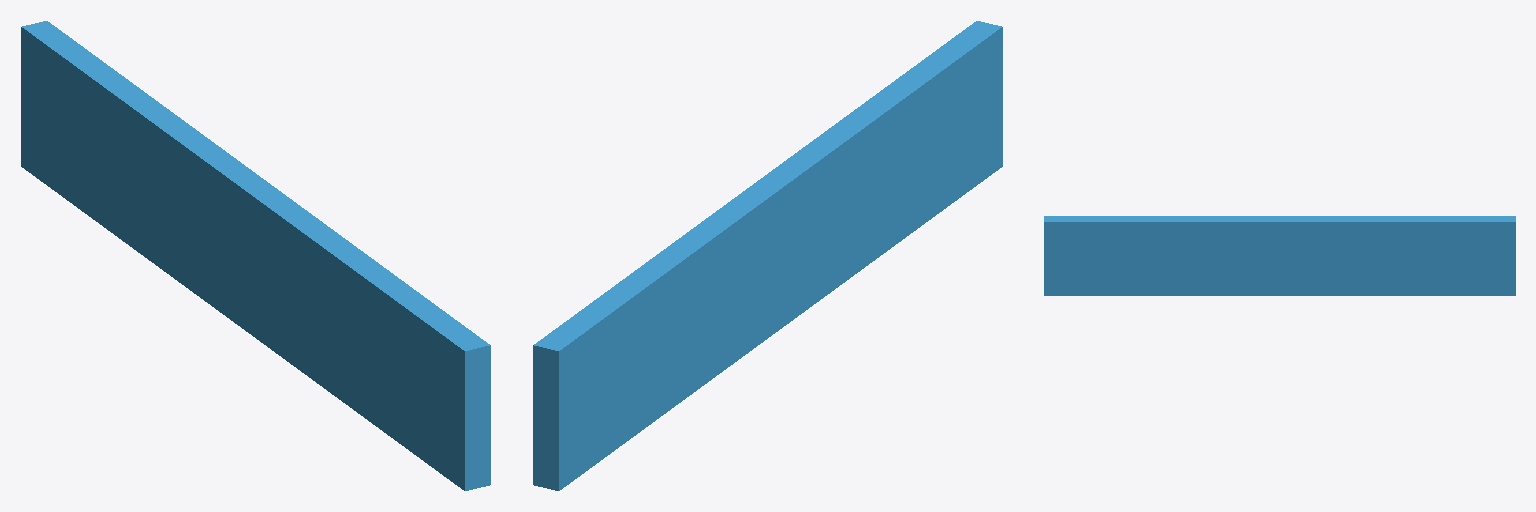
URDF robot description (box_8):
<?xml version="1.0" encoding="utf-8"?>    
    
    <robot name="box_8">
        <link name="box_8">    
            <fem>
                <origin rpy="0.0 0.0 0.0" xyz="0 0 0" />
                <density value="100" />
                <youngs value="5566"/>
                <poissons value="0.3" />
                <damping value="0.0" />
                <attachDistance value="0.01" />
                <tetmesh filename="[local-path]/sim_data/Custom/Custom_mesh/multi_boxes_5kPa/box_8.tet" />
                <scale value="0.5"/>
            </fem>
        </link>

        <link name="fix_frame">
            <visual>
                <origin xyz="-10.047344651495996 0.0 0.0"/>              
                <geometry>
                    <box size="0.005 0.15 0.026120957227224212"/>
                </geometry>
            </visual>
            <collision>
                <origin xyz="-0.04734465149599629 0.0 0.0"/>              
                <geometry>
                    <box size="0.005 0.15 0.026120957227224212"/>
                </geometry>
            </collision>
            <inertial>
                <mass value="500000"/>
                <inertia ixx="0.05" ixy="0.0" ixz="0.0" iyy="0.05" iyz="0.0" izz="0.05"/>
            </inertial>
        </link>
        
        <joint name = "attach" type = "fixed">
            <origin xyz = "0.0 0.0 0.0" rpy = "0 0 0"/>
            <parent link ="box_8"/>
            <child link = "fix_frame"/>
        </joint>  




    </robot>
    

--- Facts derived from the render (not from the file) ---
3 views of the same robot in one strip: view 1: azimuth 30°, elevation 25°; view 2: azimuth 150°, elevation 25°; view 3: azimuth 270°, elevation 25° (orthographic).
Model box_8 with 2 links and 1 joints (1 fixed), rooted at box_8, posed all joints at 0.
Links seen in each view (by area): view 1: fix_frame; view 2: fix_frame; view 3: fix_frame.
Boxes of the visible links, bbox=[...] form: fix_frame: bbox=[21, 21, 490, 490]; fix_frame: bbox=[533, 21, 1002, 490]; fix_frame: bbox=[1044, 216, 1515, 295].
Bounding box of the posed robot: 0.005 × 0.15 × 0.0261 m (x, y, z).
Geometry: primitives only (box / cylinder / sphere), no mesh files.